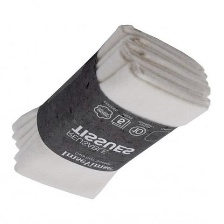tissue: (5, 20, 215, 207)
